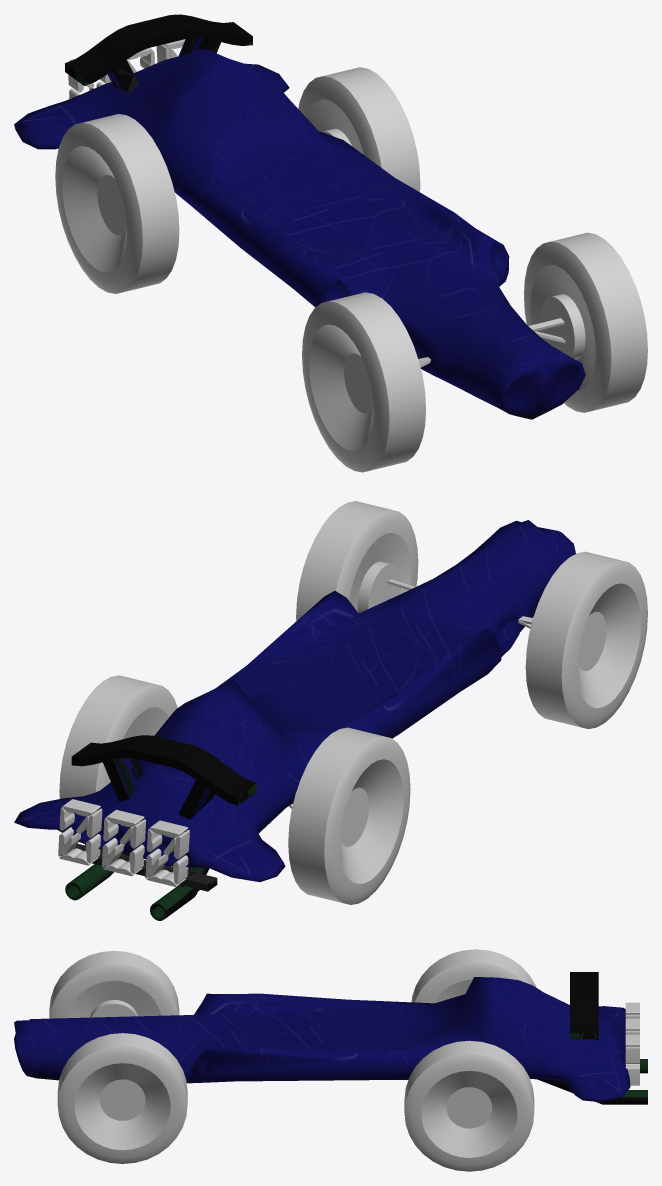
File: race_car1.fbx
The picture shows the model from 3 angles, top to bottom: view 1: azimuth 30°, elevation 25°; view 2: azimuth 150°, elevation 25°; view 3: azimuth 270°, elevation 25°; orthographic projection. The views are drawn at different scales.
Visible parts, largest first — view 1: Body, Wheel.003, Wheel, Wheel.002, Wheel.001, TopSpoller, Text; view 2: Body, Wheel, Wheel.003, Wheel.002, Wheel.001, TopSpoller, Text, ExhausePipe, BottomSpoller; view 3: Body, Wheel.001, Wheel.002, Wheel, Wheel.003, TopSpoller, Text, ExhausePipe.
Boxes of the visible parts, box(x1,y1,x2,y2) form: Body: box(14, 49, 585, 419); Wheel.003: box(55, 114, 179, 293); Wheel: box(302, 292, 425, 472); Wheel.002: box(524, 232, 647, 412); Wheel.001: box(298, 67, 420, 191); TopSpoller: box(65, 14, 252, 92); Text: box(68, 39, 185, 98); Body: box(14, 520, 575, 882); Wheel: box(525, 551, 647, 728); Wheel.003: box(288, 727, 410, 904); Wheel.002: box(296, 501, 418, 620); Wheel.001: box(59, 675, 177, 842); TopSpoller: box(71, 735, 256, 819); Text: box(58, 799, 189, 886); ExhausePipe: box(65, 853, 209, 920); BottomSpoller: box(61, 843, 217, 891); Body: box(14, 977, 630, 1101); Wheel.001: box(404, 1040, 534, 1171); Wheel.002: box(57, 1033, 187, 1163); Wheel: box(49, 950, 179, 1018); Wheel.003: box(411, 949, 536, 1003); TopSpoller: box(570, 972, 598, 1040); Text: box(625, 1002, 639, 1085); ExhausePipe: box(537, 1059, 647, 1104).
Bounding box in the file's own units: 167 × 111 × 439.
